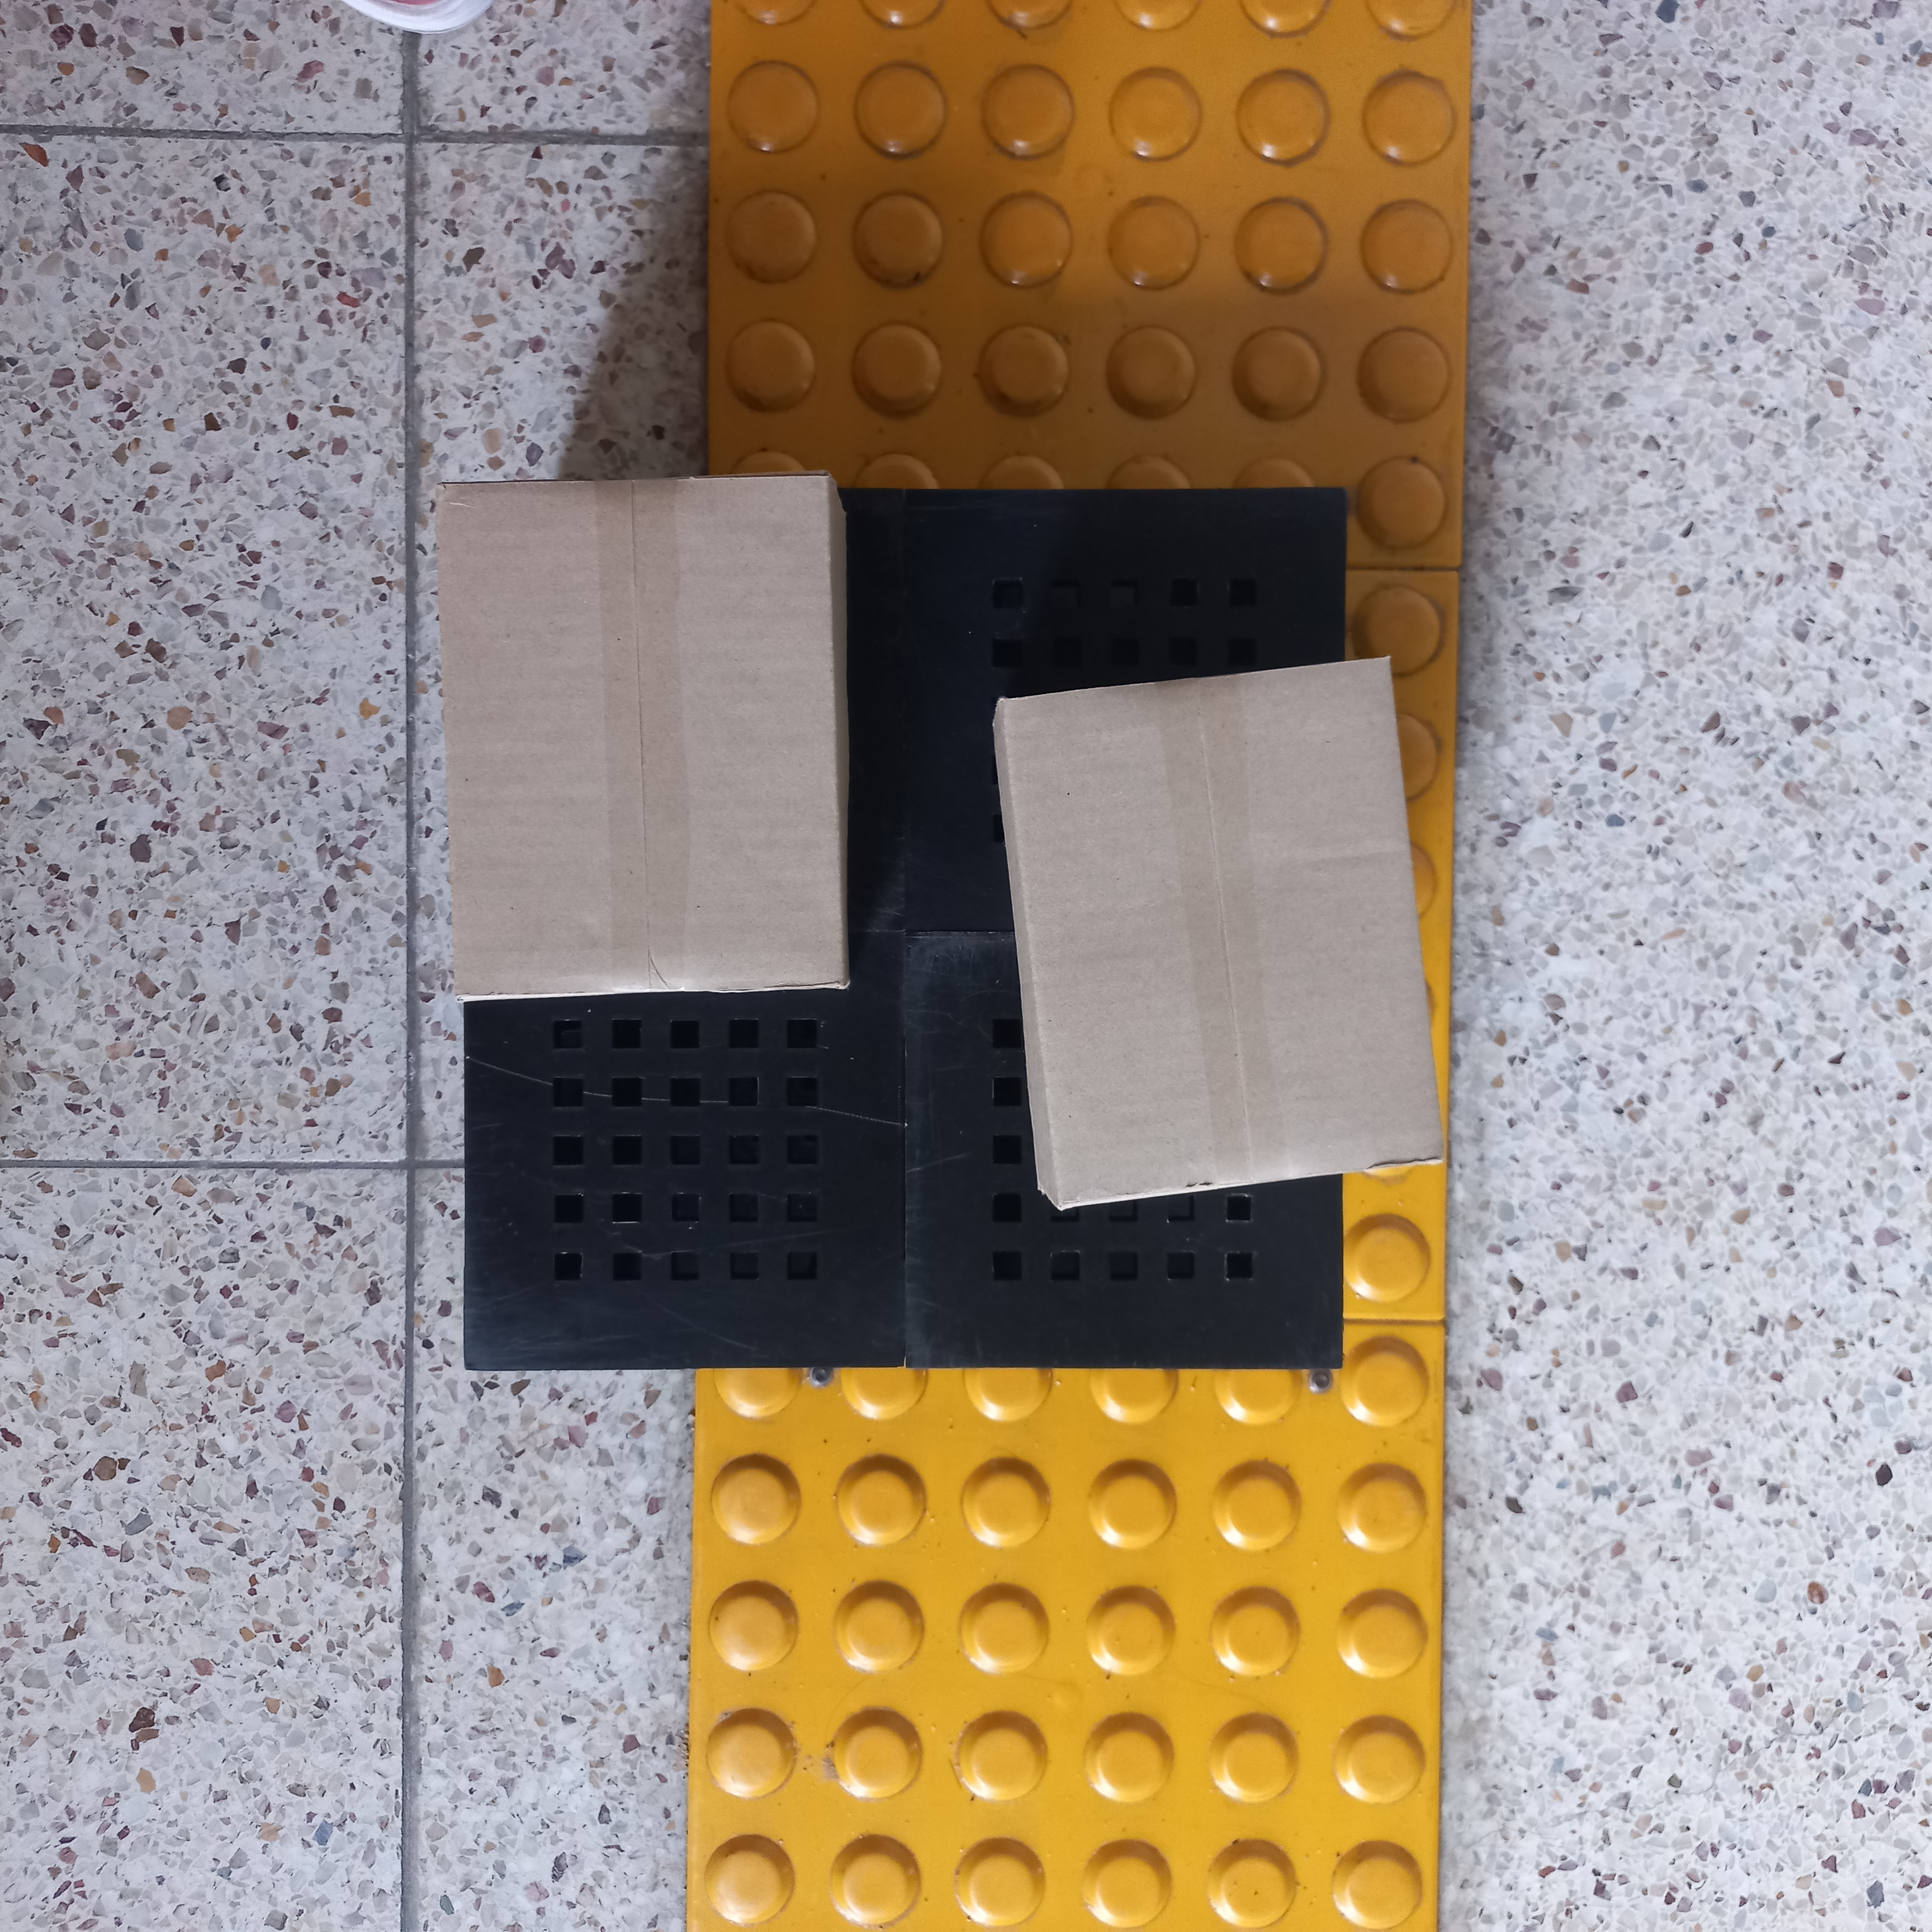box: (993, 653, 1444, 1210), (435, 478, 853, 1005)
